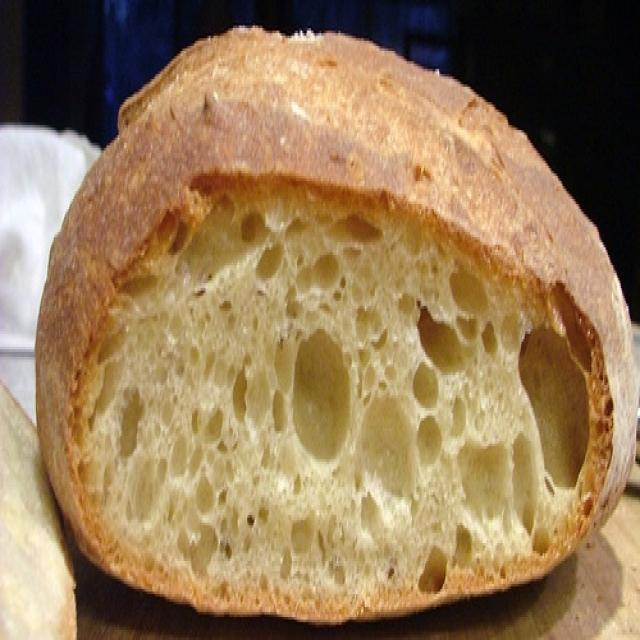Bread: (41, 19, 640, 626)
